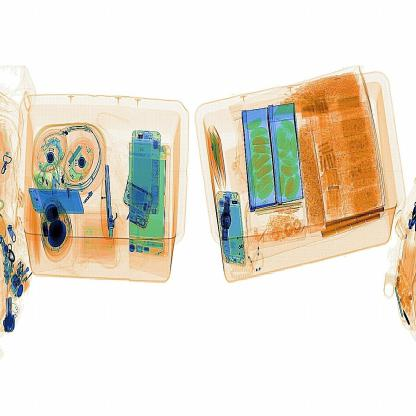pliers: (106, 165, 120, 241)
